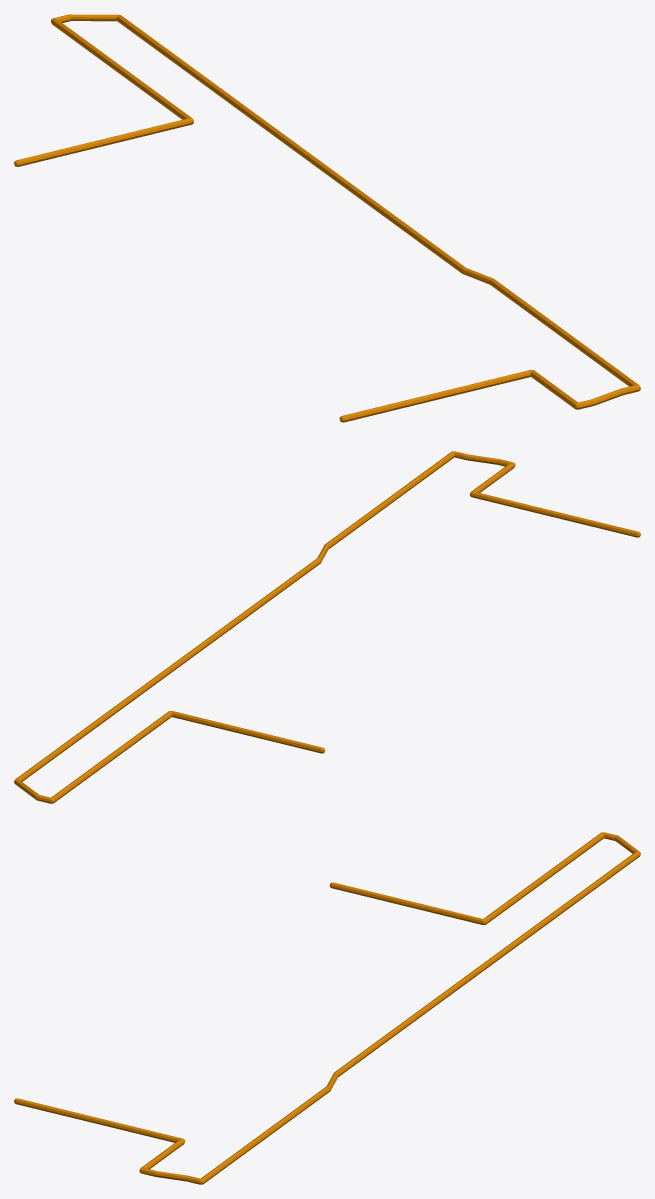
The picture shows the model from 3 angles, top to bottom: view 1: azimuth 30°, elevation 25°; view 2: azimuth 150°, elevation 25°; view 3: azimuth 330°, elevation 25°; orthographic projection. The views are drawn at different scales.
Size of the model in its own units: 822 by 20 by 2909.
